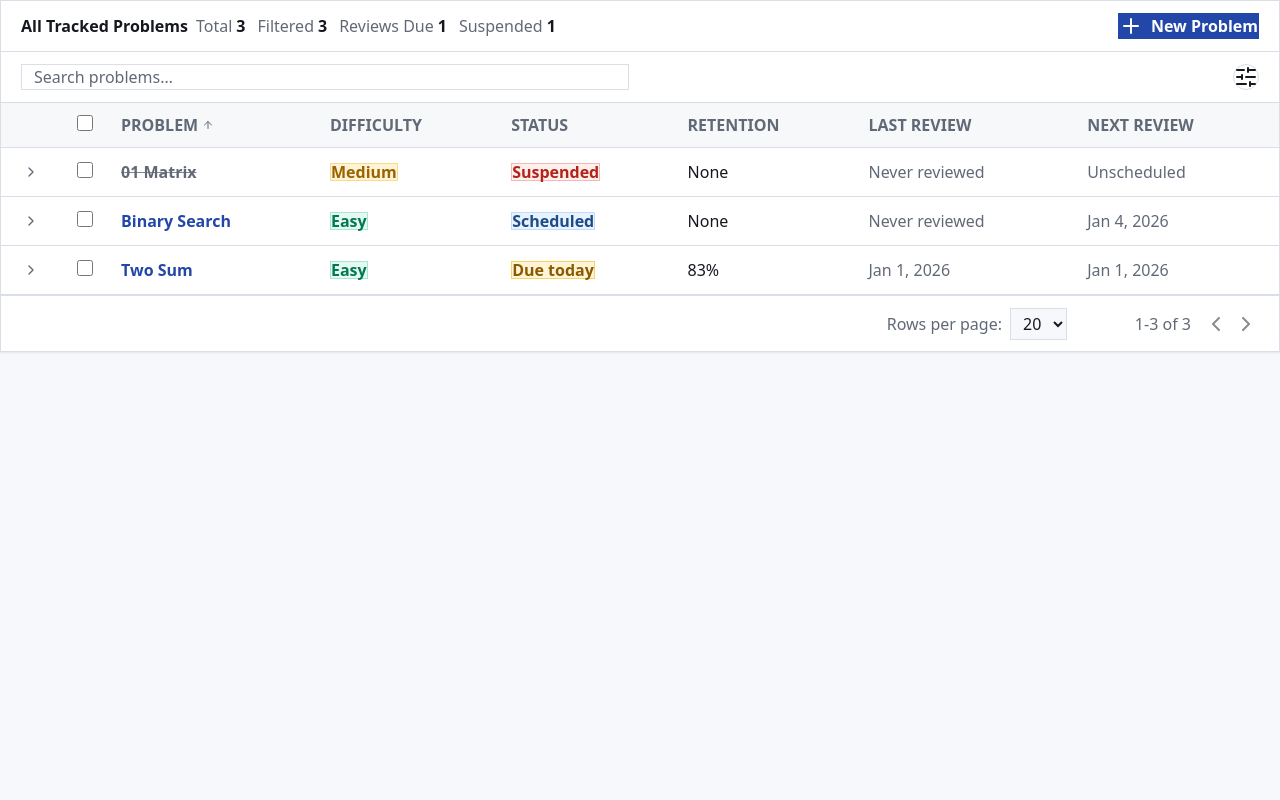
Test: ProblemLibraryScreen › allows multiple values in one facet filter
The width and height of the screenshot is (1280, 800).
Check: the row "Two Sum Easy Due today 83% Jan 1, 2026 Jan 1, 2026" is shown, box [1,246,1279,294]
Click the button named "Expand filters".
click(1246, 77)  # box [1233,64,1259,90]
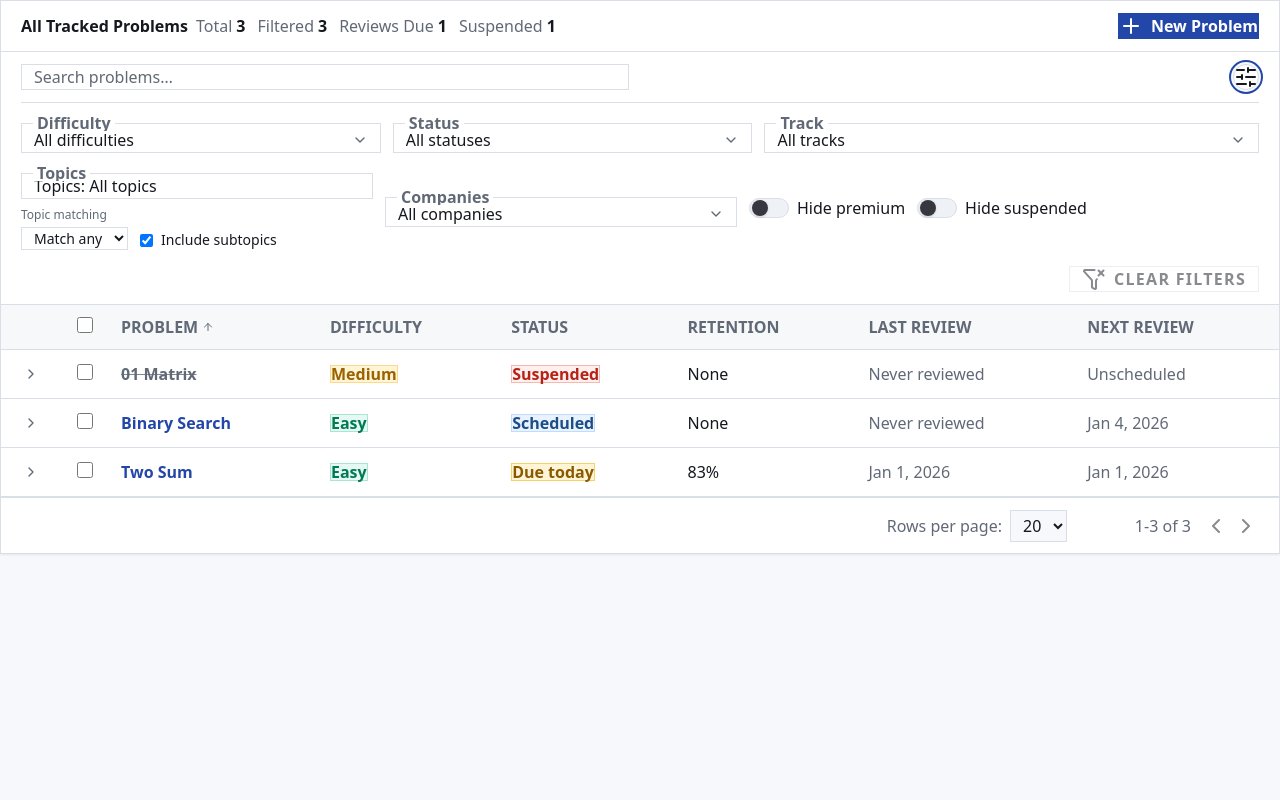
Click the button named "Difficulty".
click(84, 140)  # box [21,123,381,153]
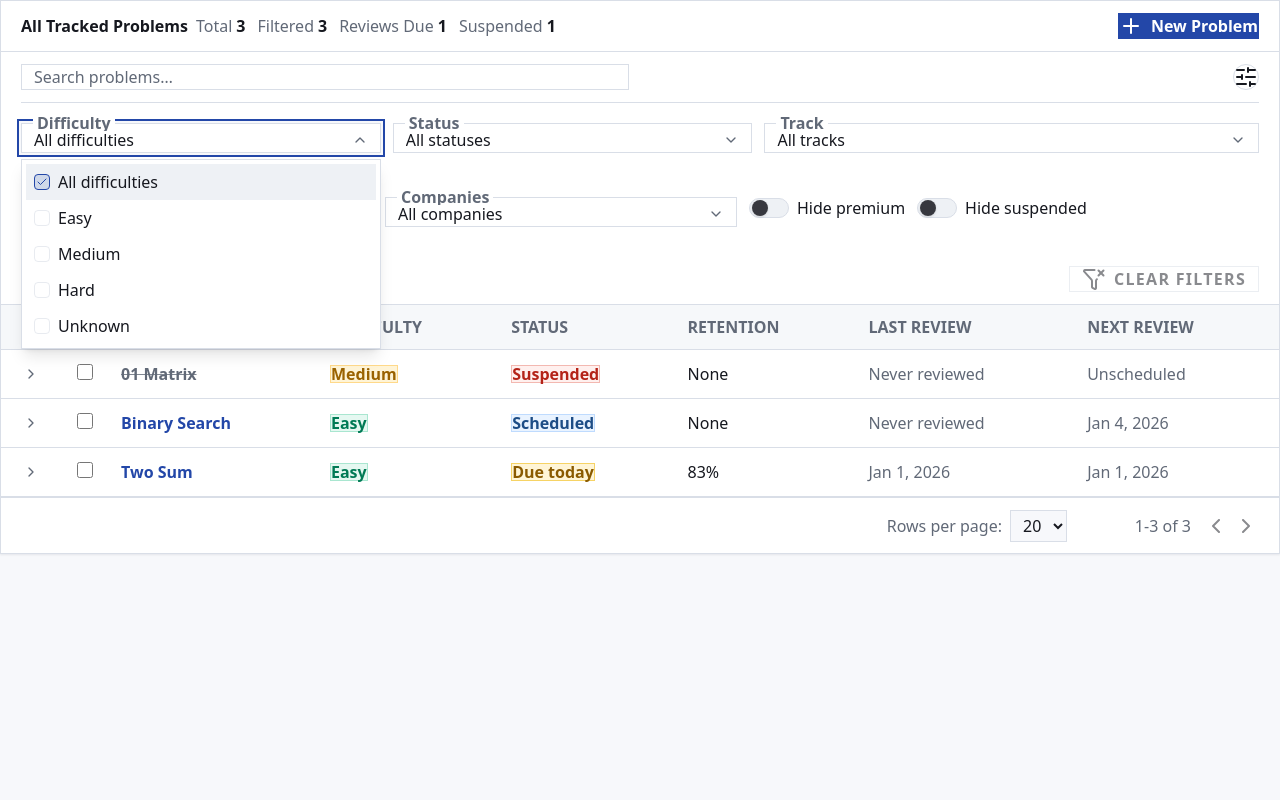
Click the option "Easy".
click(75, 218)  # box [26,200,376,236]
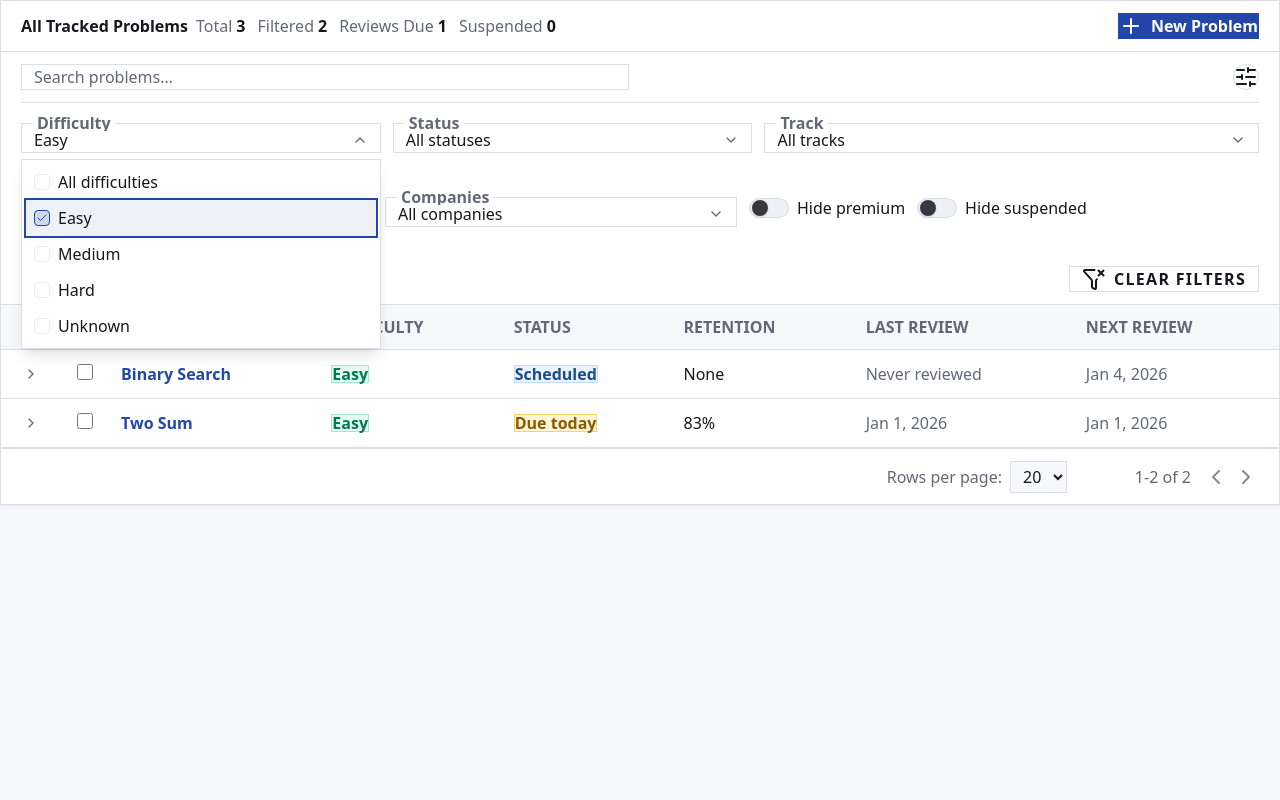
Click the option "Medium".
click(89, 254)  # box [26,236,376,272]
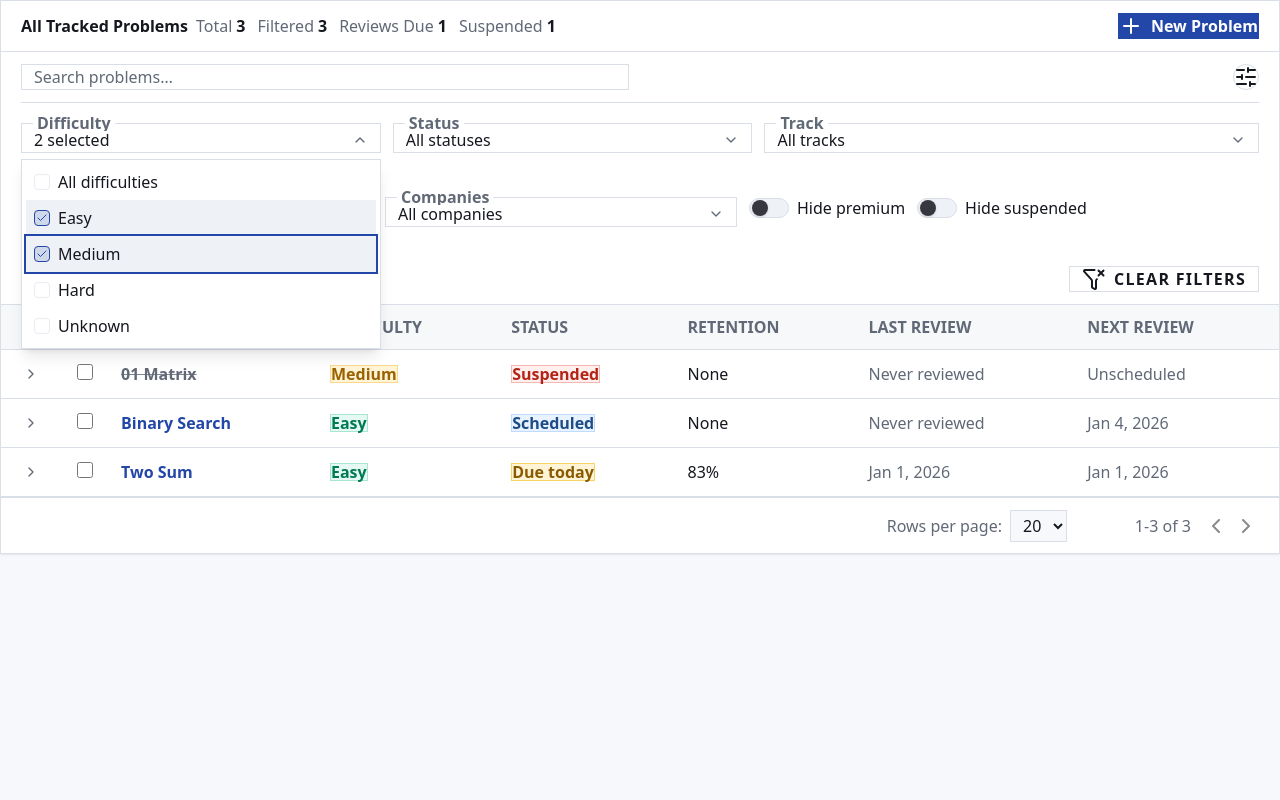
Check: the row "Two Sum Easy Due today 83% Jan 1, 2026 Jan 1, 2026" is shown, box [1,448,1279,496]
Check: the button named "Difficulty 2 selected" is shown, box [21,123,381,153]
Check: the row "01 Matrix Medium Suspended None Never reviewed Unscheduled" is shown, box [1,350,1279,398]
Click the option "Easy".
click(75, 218)  # box [26,200,376,236]
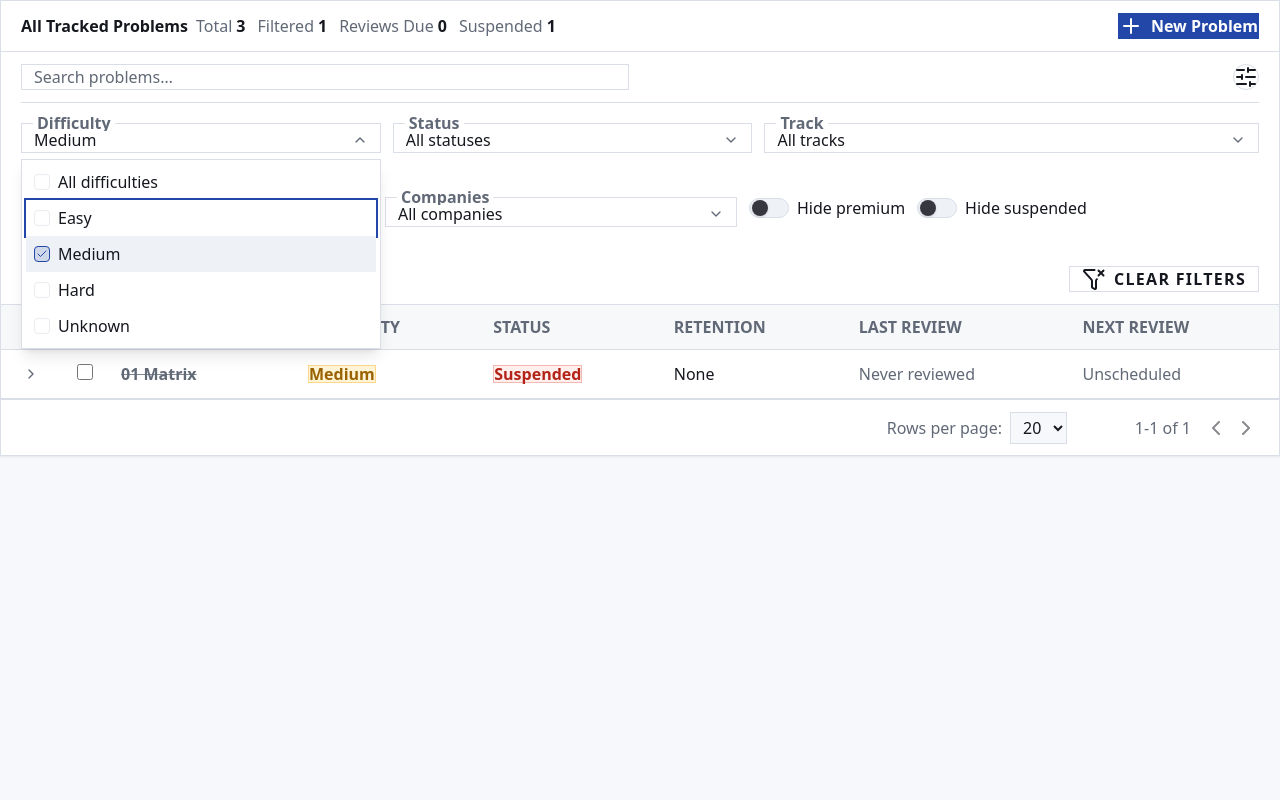
Check: the row "01 Matrix Medium Suspended None Never reviewed Unscheduled" is shown, box [1,350,1279,398]
Check: the link "Two Sum" is gone
Check: the link "Binary Search" is gone
Click the option "All difficulties".
click(108, 182)  # box [26,164,376,200]
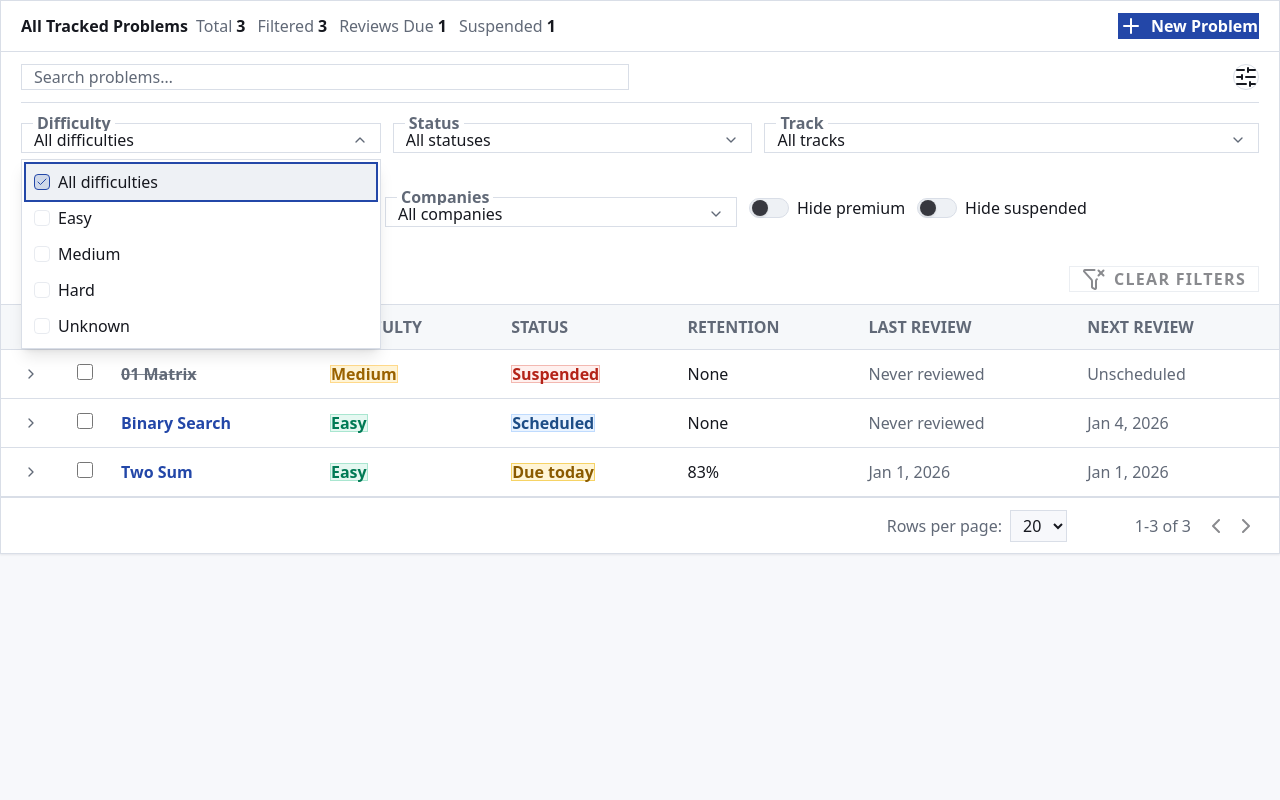
Check: the row "Two Sum Easy Due today 83% Jan 1, 2026 Jan 1, 2026" is shown, box [1,448,1279,496]
Check: the row "Binary Search Easy Scheduled None Never reviewed Jan 4, 2026" is shown, box [1,398,1279,448]
